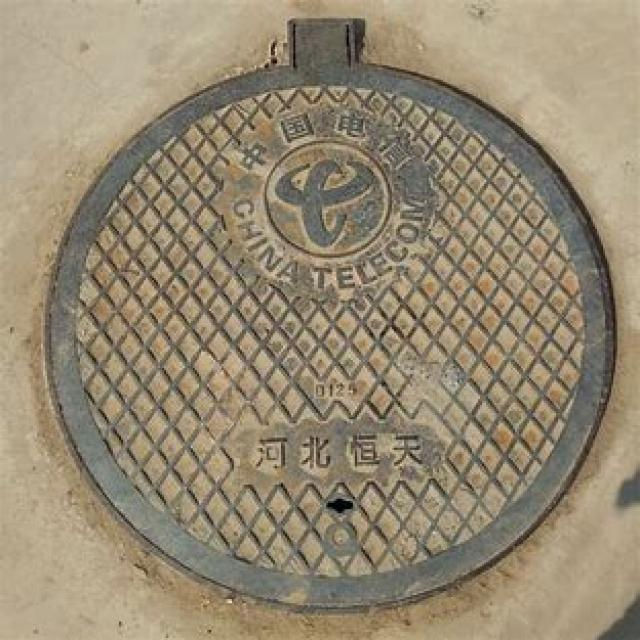manhole: (48, 20, 615, 608)
